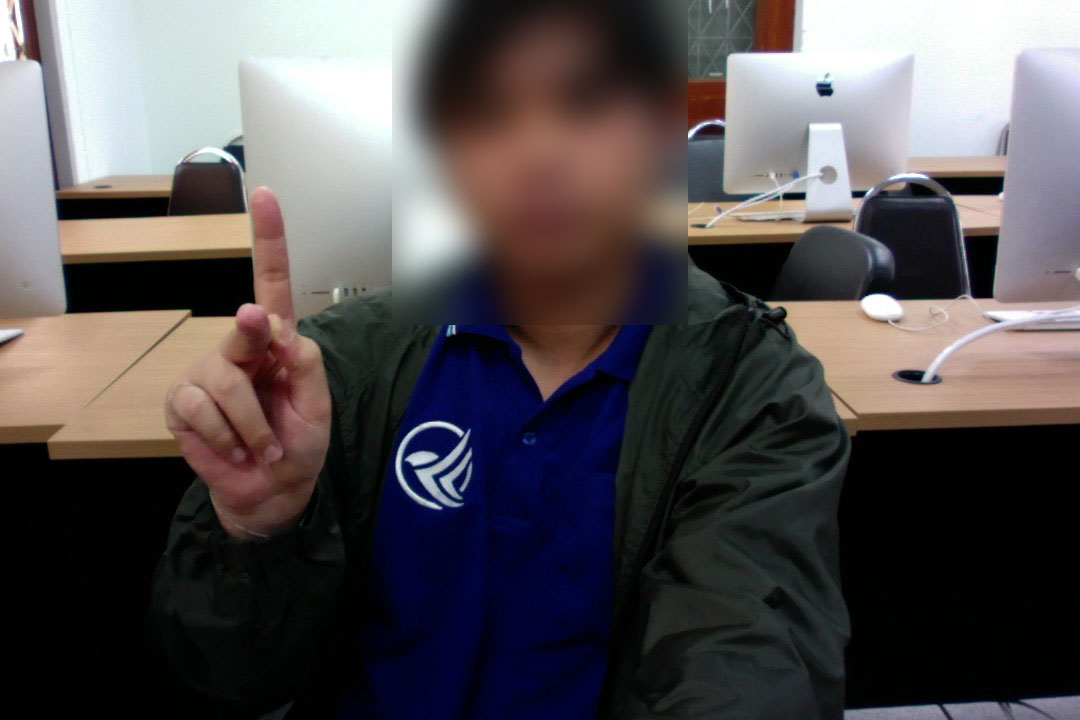ko: (160, 177, 337, 541)
